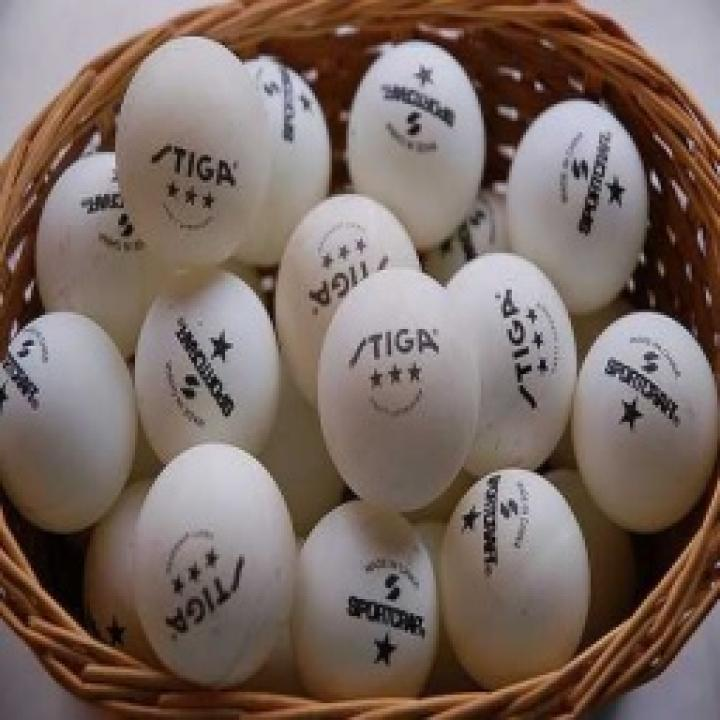white: (138, 446, 298, 682), (115, 34, 266, 270), (443, 467, 593, 687), (575, 309, 720, 529), (432, 253, 573, 476), (0, 312, 140, 534), (279, 194, 424, 406), (508, 96, 652, 307), (340, 39, 486, 246), (296, 500, 437, 706), (81, 478, 227, 669), (36, 152, 172, 356), (137, 270, 279, 458), (216, 56, 334, 260)
